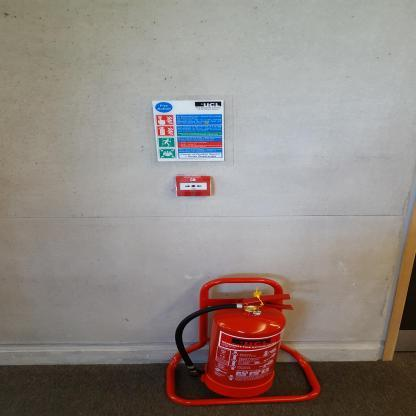Fire Extinguisher: (164, 281, 306, 408)
